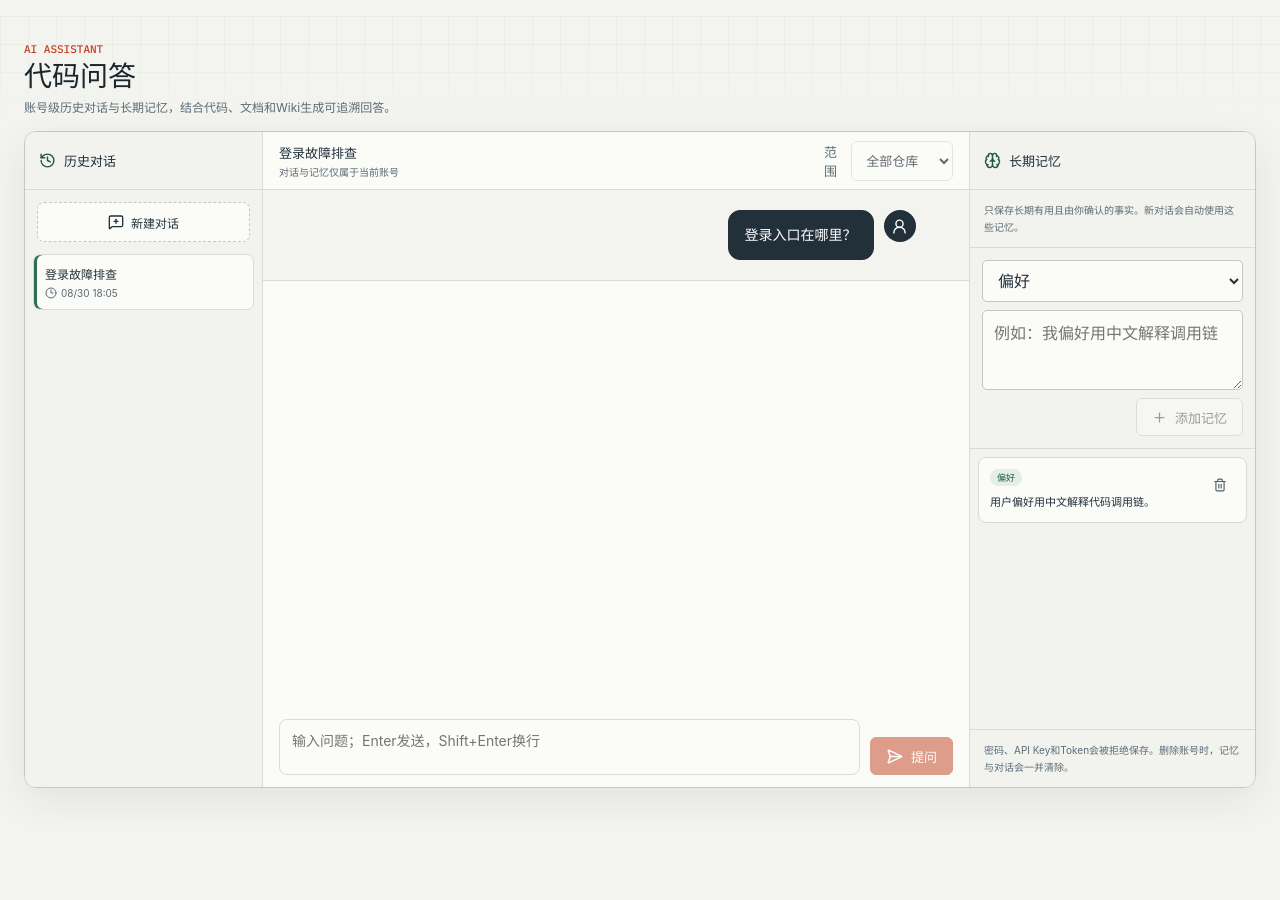
Test: ChatView account workspace › restores the draft and removes optimistic history when sending fails
Click the button with class "chat-new-session".
click(144, 222)  # box [37,202,250,242]
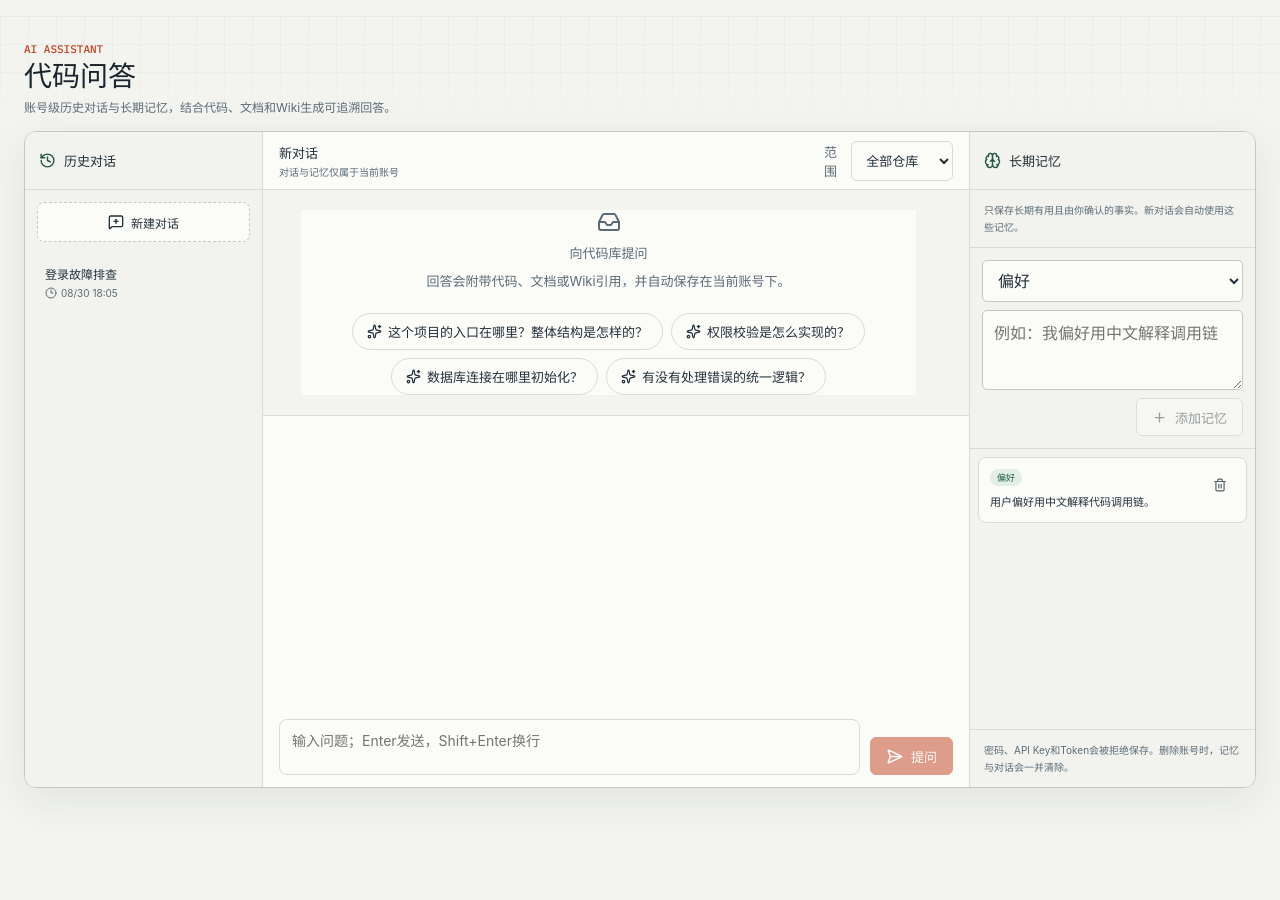
Type "请保留这个问题" into the text box named "提问内容".
click(570, 747); type("请保留这个问题")  # box [279,719,860,775]
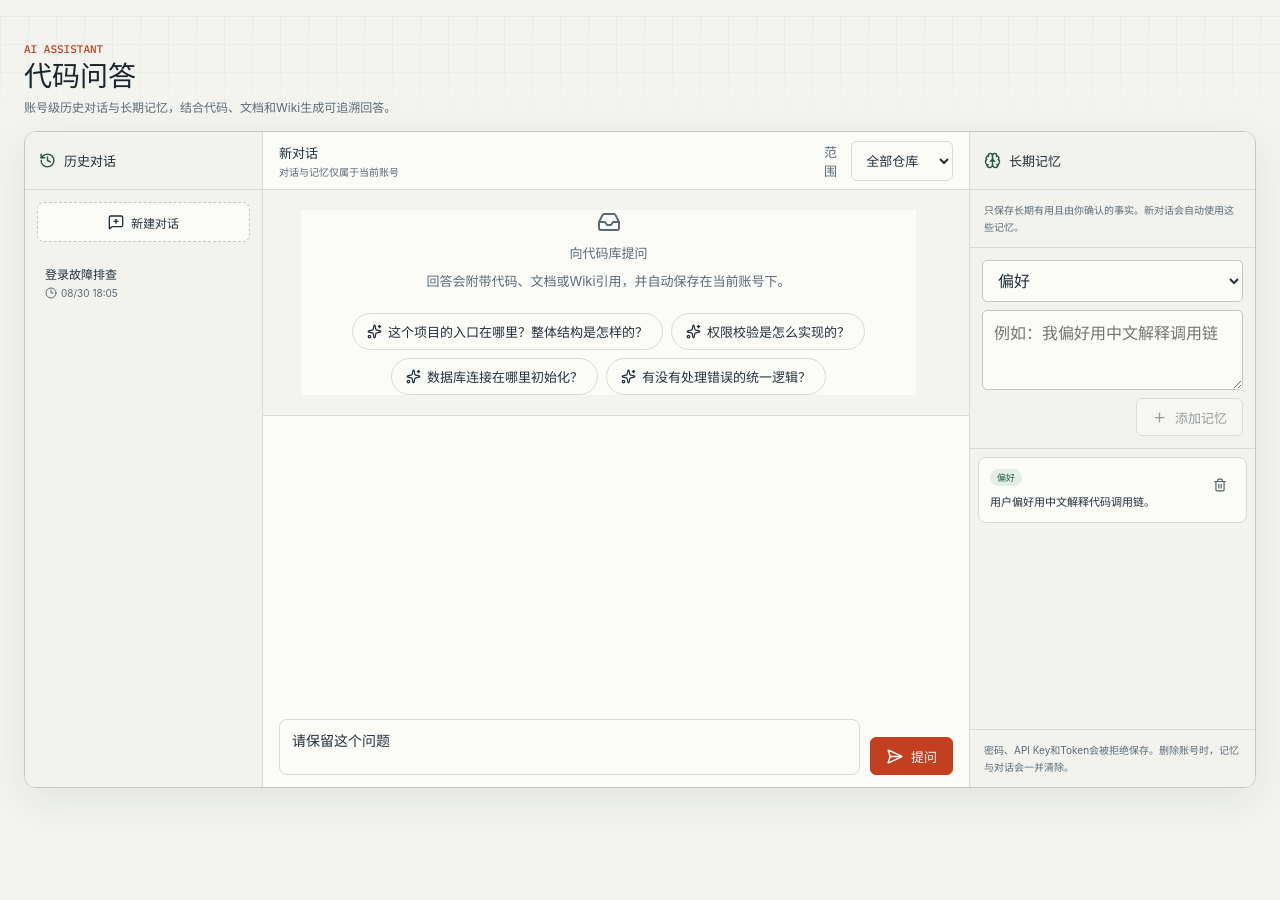
Submit the form with class "chat-composer", box [263,415,969,787]
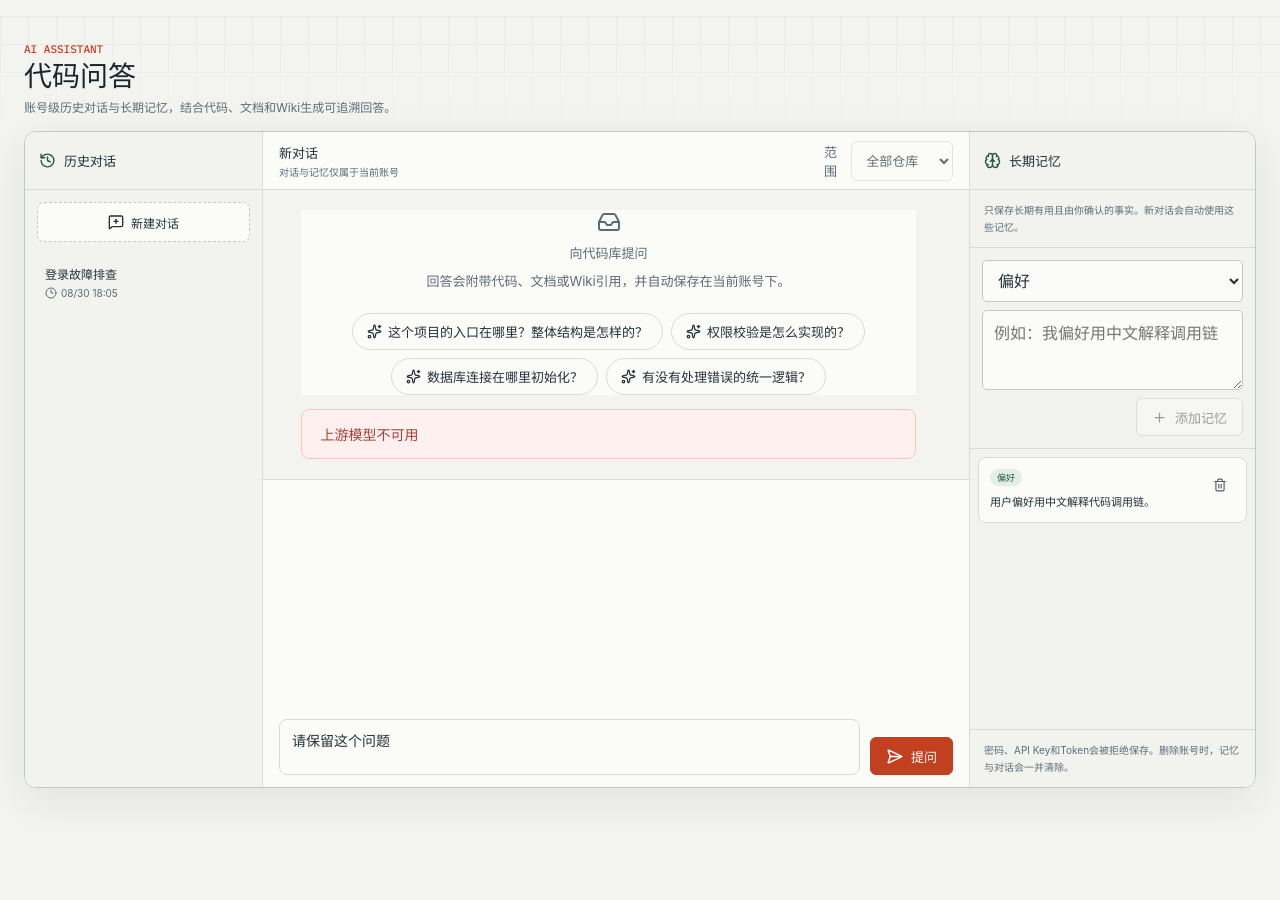
Result: the text with class "error-banner" reads "上游模型不可用" at [320,426,418,443]
